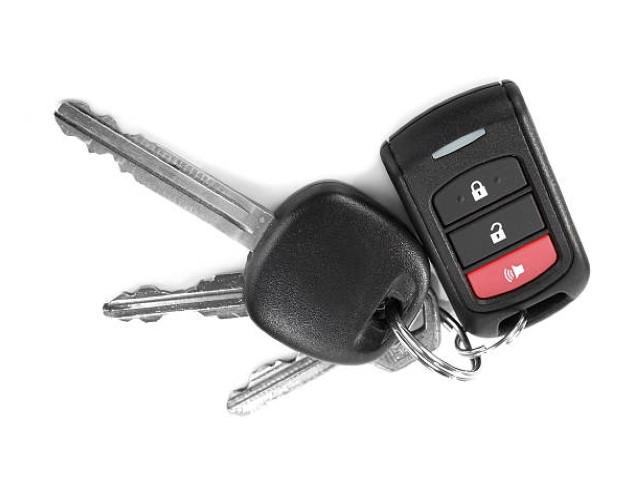key: (52, 96, 448, 448)
